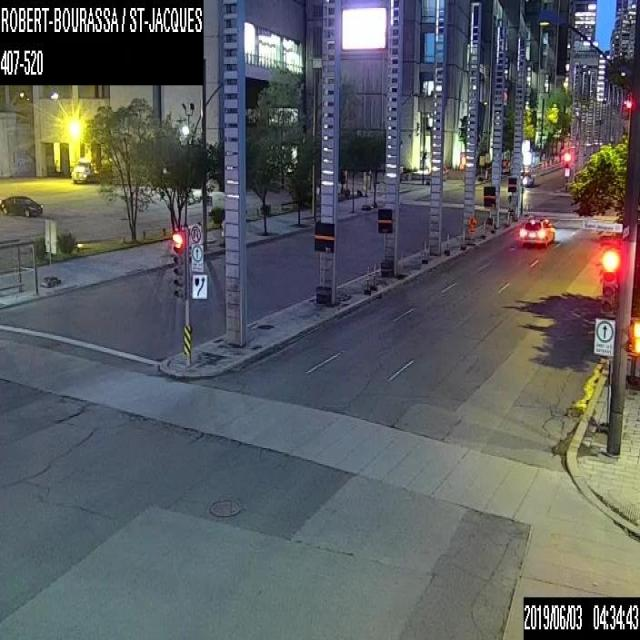construction: (466, 218, 476, 246), (490, 213, 499, 231), (372, 268, 375, 287), (445, 233, 448, 251), (366, 271, 369, 288), (423, 240, 426, 257), (525, 198, 528, 214)
vehicle: (518, 218, 554, 245), (0, 195, 42, 218), (70, 156, 92, 183), (520, 171, 534, 184)
